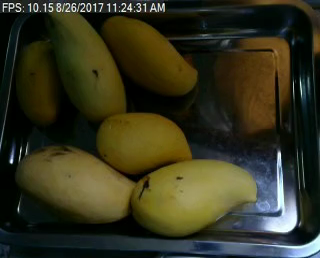Mango: (129, 158, 258, 235), (15, 143, 135, 222), (48, 1, 127, 119), (99, 11, 200, 94), (97, 112, 192, 173), (18, 41, 66, 125)
